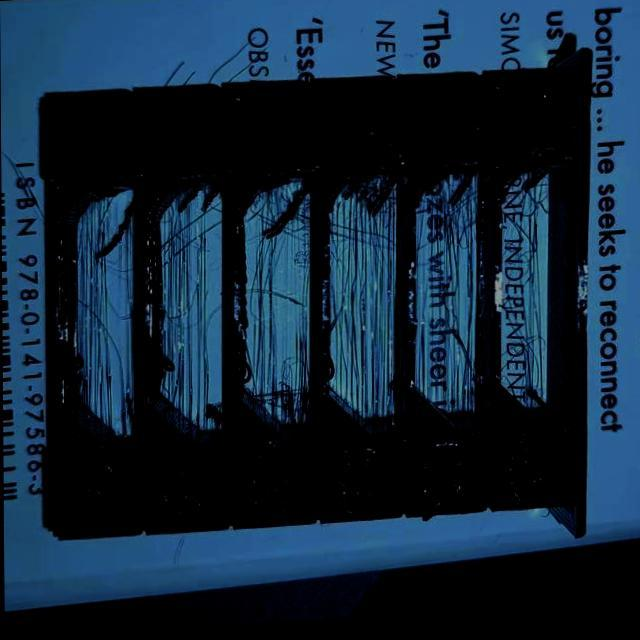stringing: (64, 186, 140, 461), (154, 180, 228, 461), (330, 173, 405, 450), (241, 173, 313, 459)
